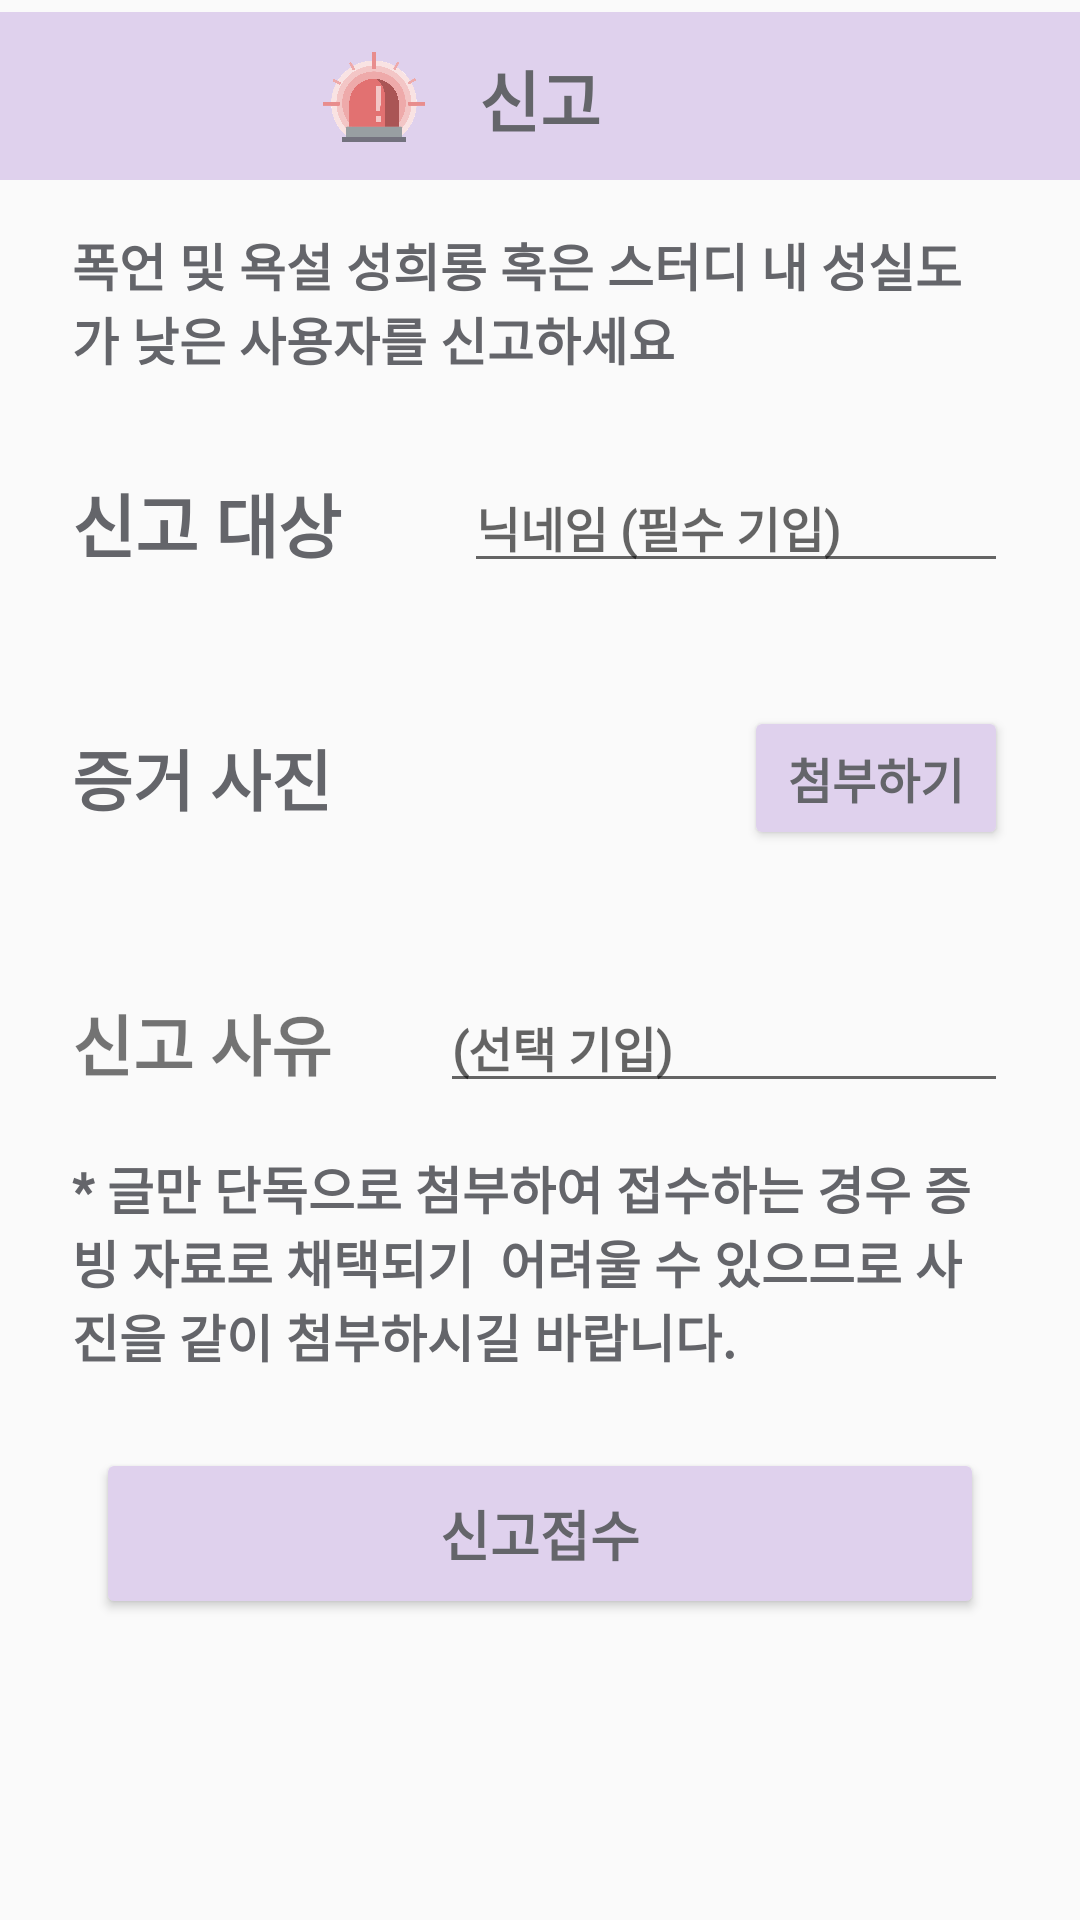

Named icons in this screenshot (1080w x 1920h) and their centers, [x,y]:
siren: [374,97]
